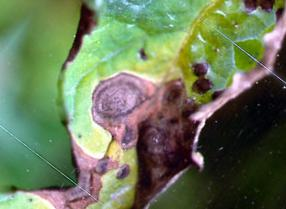Tomato Early blight leaf: (0, 0, 274, 209)
